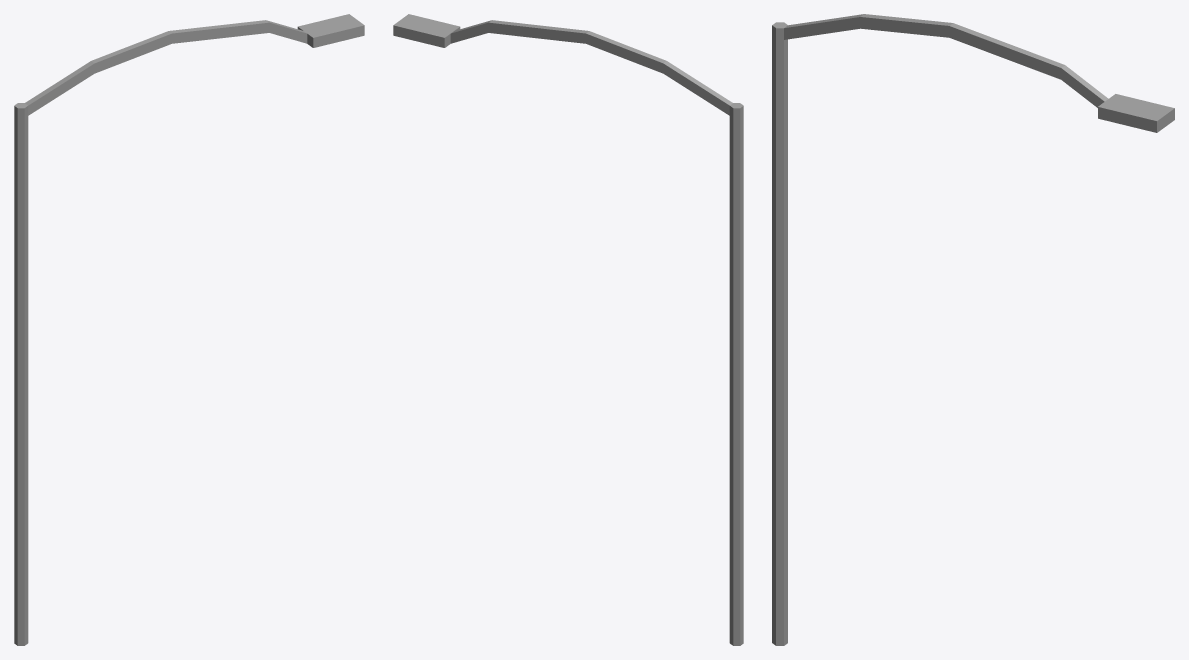
File: lightpost.glb
3 renders of one model, left to right at view 1: azimuth 30°, elevation 25°; view 2: azimuth 150°, elevation 25°; view 3: azimuth 330°, elevation 25°, orthographic. The views are drawn at different scales.
Visible parts, largest first — view 1: lightpost -col; view 2: lightpost -col; view 3: lightpost -col.
Part boxes in pixels (x1,y1,x2,y2): lightpost -col: (14,14,364,645); lightpost -col: (393,14,743,645); lightpost -col: (772,14,1174,645).
Size of the model in its own units: 6.22 by 10.02 by 0.4901.
Materials: 1 (1 with a texture image).
